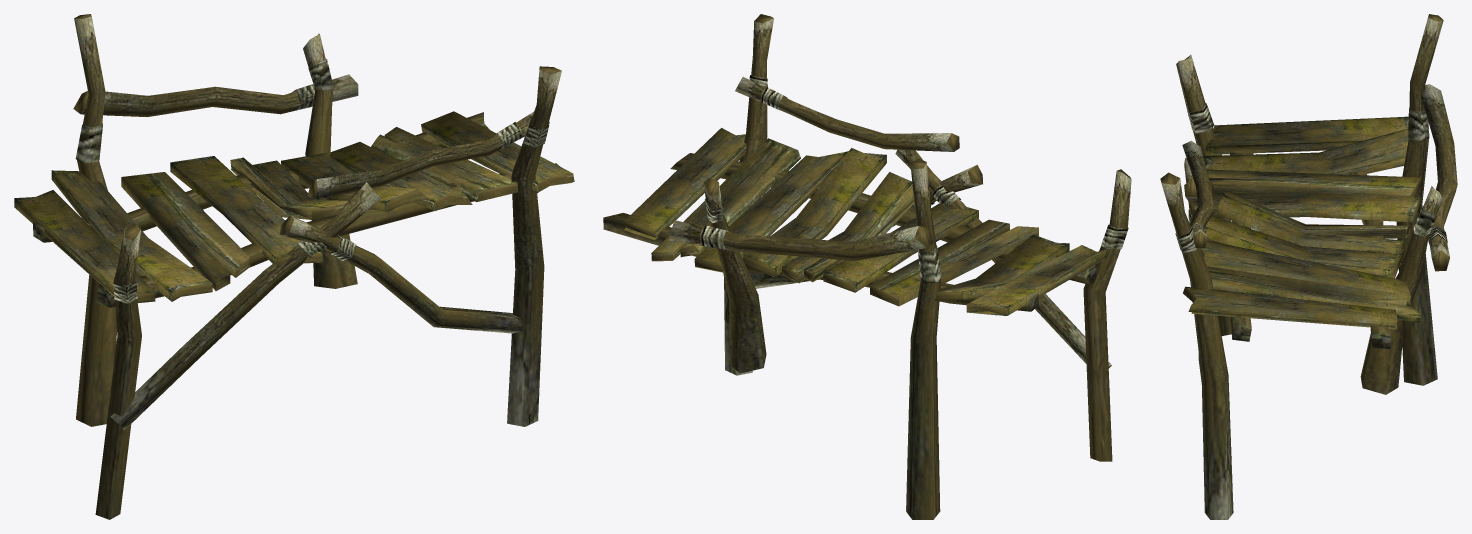
The model's file is 10205_wood01.FBX.
The picture shows the model from 3 angles, left to right: view 1: azimuth 30°, elevation 25°; view 2: azimuth 150°, elevation 25°; view 3: azimuth 270°, elevation 25°; orthographic projection. The views are drawn at different scales.
Visible parts, largest first — view 1: 10205_wood01; view 2: 10205_wood01; view 3: 10205_wood01.
Part boxes in pixels (x1=…): 10205_wood01: x1=14, y1=14, x2=574, y2=519; 10205_wood01: x1=603, y1=14, x2=1131, y2=519; 10205_wood01: x1=1160, y1=14, x2=1457, y2=519.
Bounding box in the file's own units: 956 × 757 × 565.
